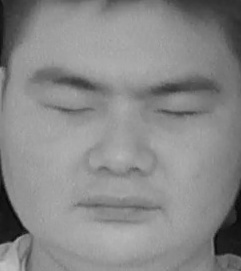blink: (40, 89, 96, 124), (157, 96, 209, 128)
mouth: (74, 184, 159, 229)
